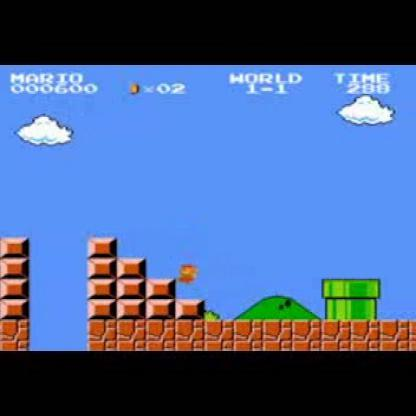Hoyo: (24, 318, 92, 350)
